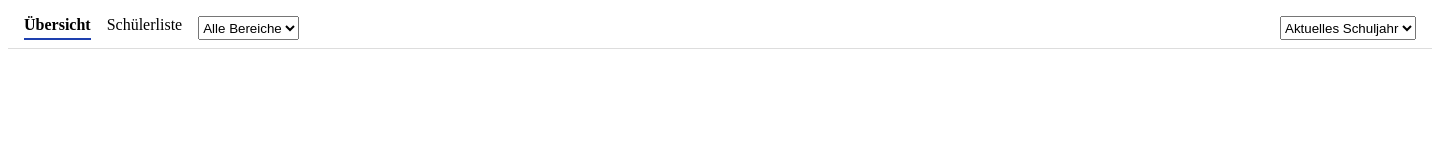
Navigation › hides the Klasse dropdown until a Bereich is chosen when there are multiple Bereiche
Expected: the field labelled "Klasse" is not shown
Select "Ausbildung" in the dropdown named "Bereich" at {"x": 249, "y": 28}, box [198, 16, 299, 40]
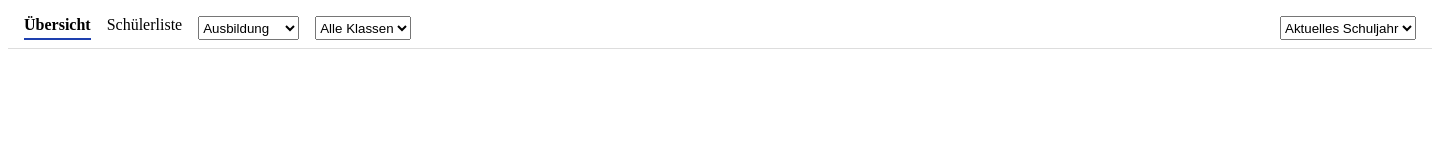
Result: the dropdown named "Klasse" is shown at [315, 16, 411, 40]
